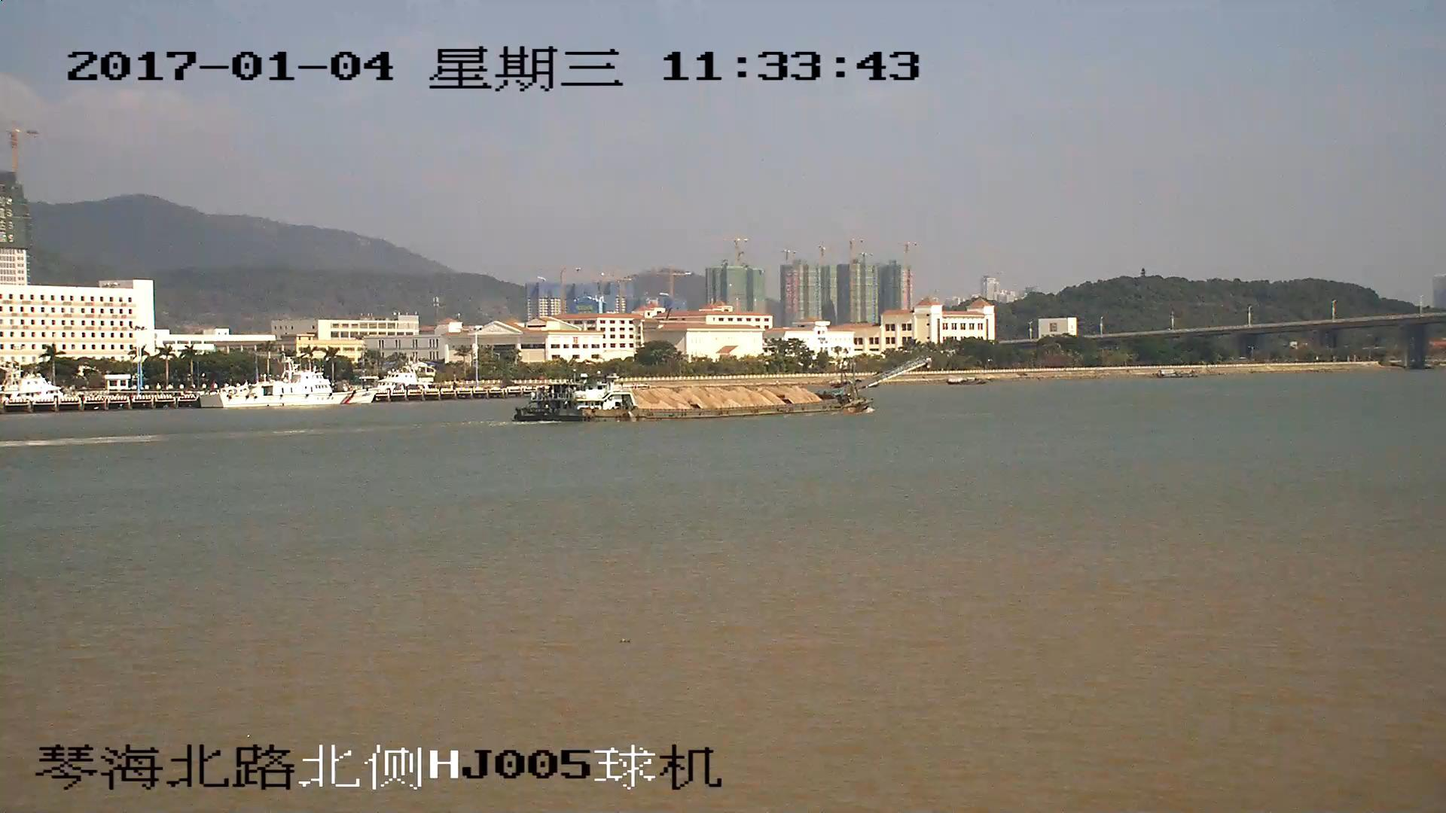ore carrier: (515, 355, 929, 423)
